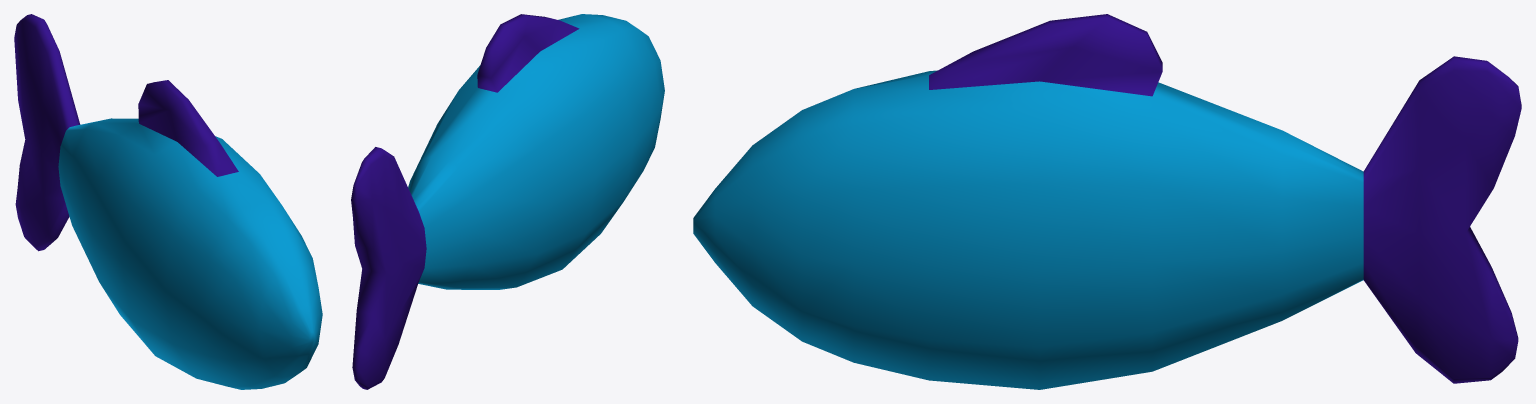
File: AdnanV1.fbx
3 renders of one model, left to right at view 1: azimuth 30°, elevation 25°; view 2: azimuth 150°, elevation 25°; view 3: azimuth 270°, elevation 25°, orthographic. The views are drawn at different scales.
Parts seen in each view (by area): view 1: basic ass fish; view 2: basic ass fish; view 3: basic ass fish.
Part boxes in pixels (box(x1,y1,x2,y2)): basic ass fish: box(14, 14, 322, 389); basic ass fish: box(351, 14, 664, 389); basic ass fish: box(693, 14, 1521, 389).
Size of the model in its own units: 16.99 by 31.62 by 64.97.
